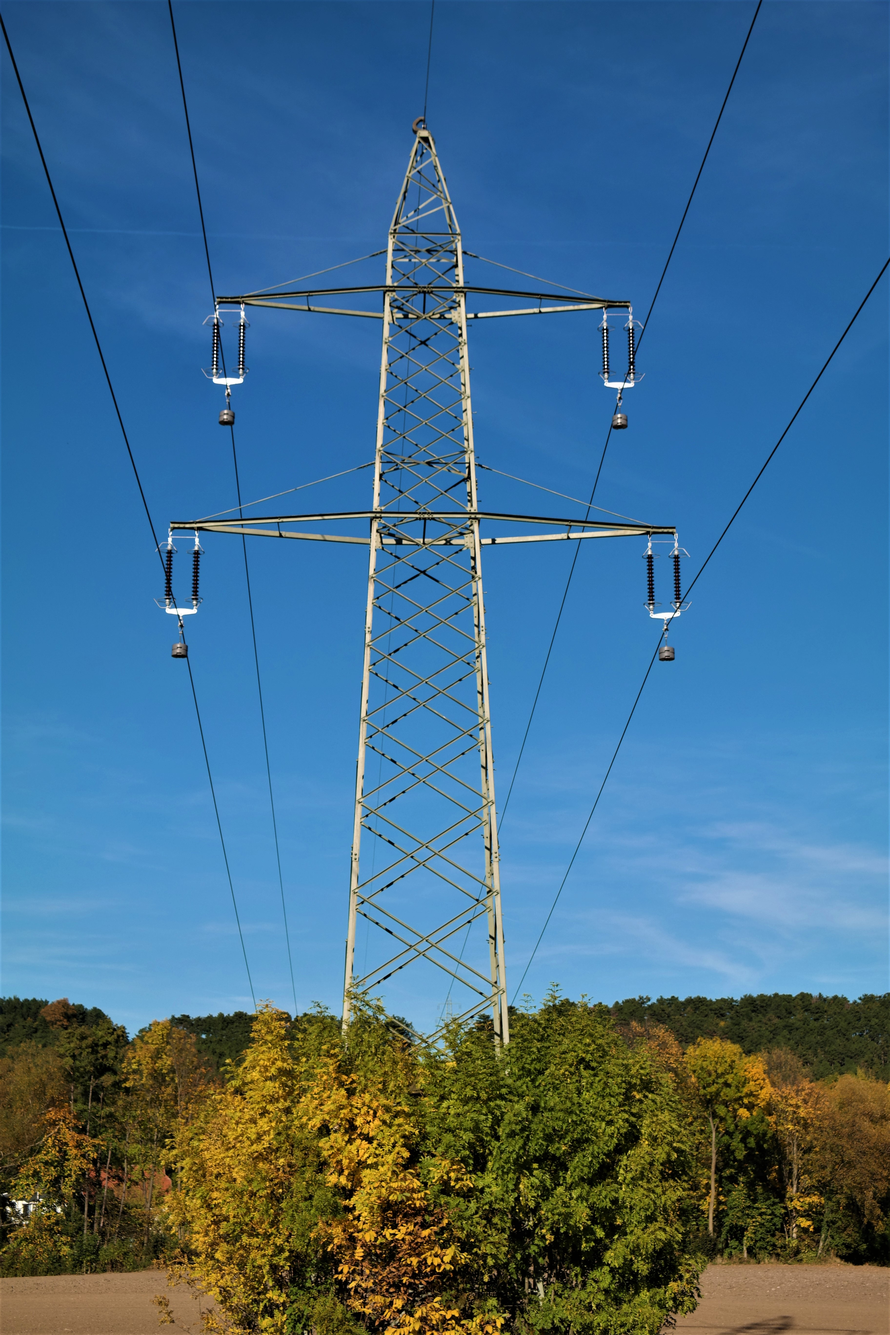insulator: (632, 530, 696, 654), (200, 294, 260, 416), (159, 521, 212, 640), (592, 305, 647, 419)
